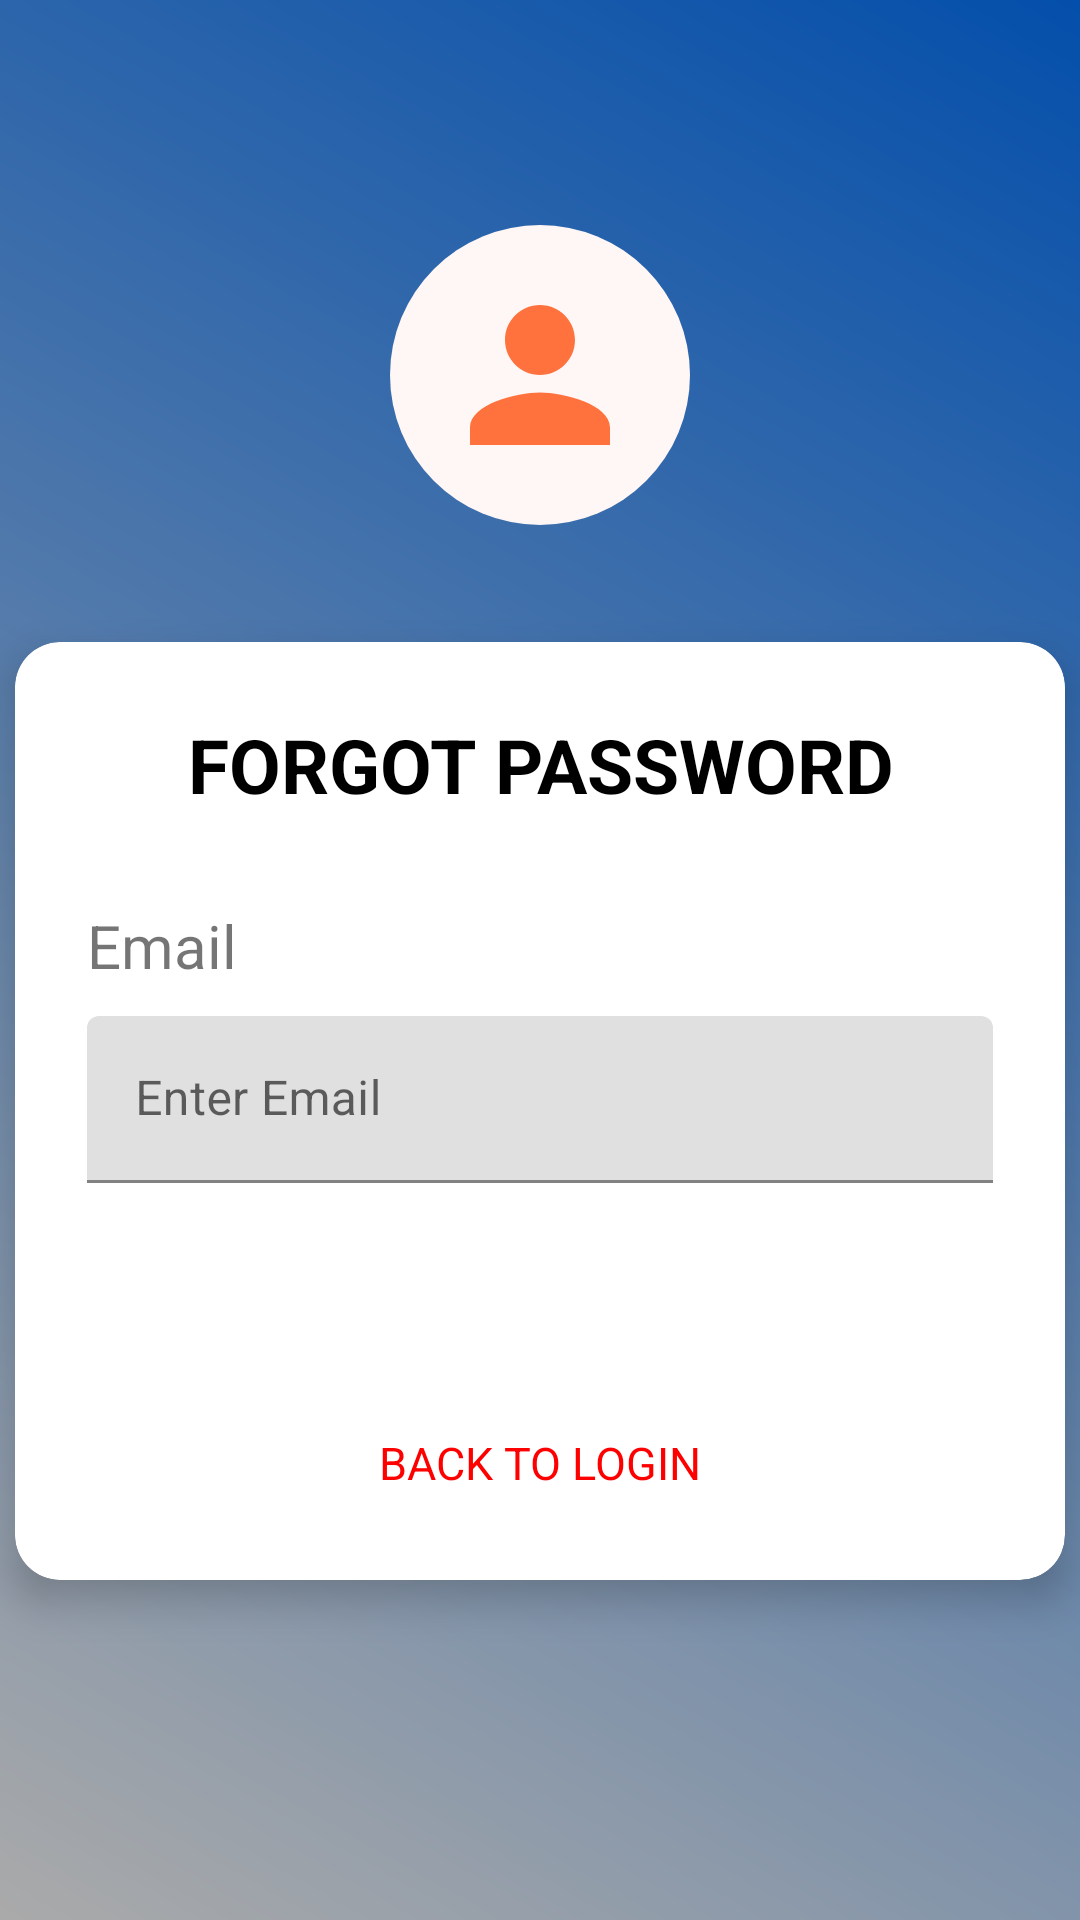

Icons on this 1080 × 1920 Android screen, each with its box as [x1, y1, x2, y2]:
person: [390, 225, 690, 525]
